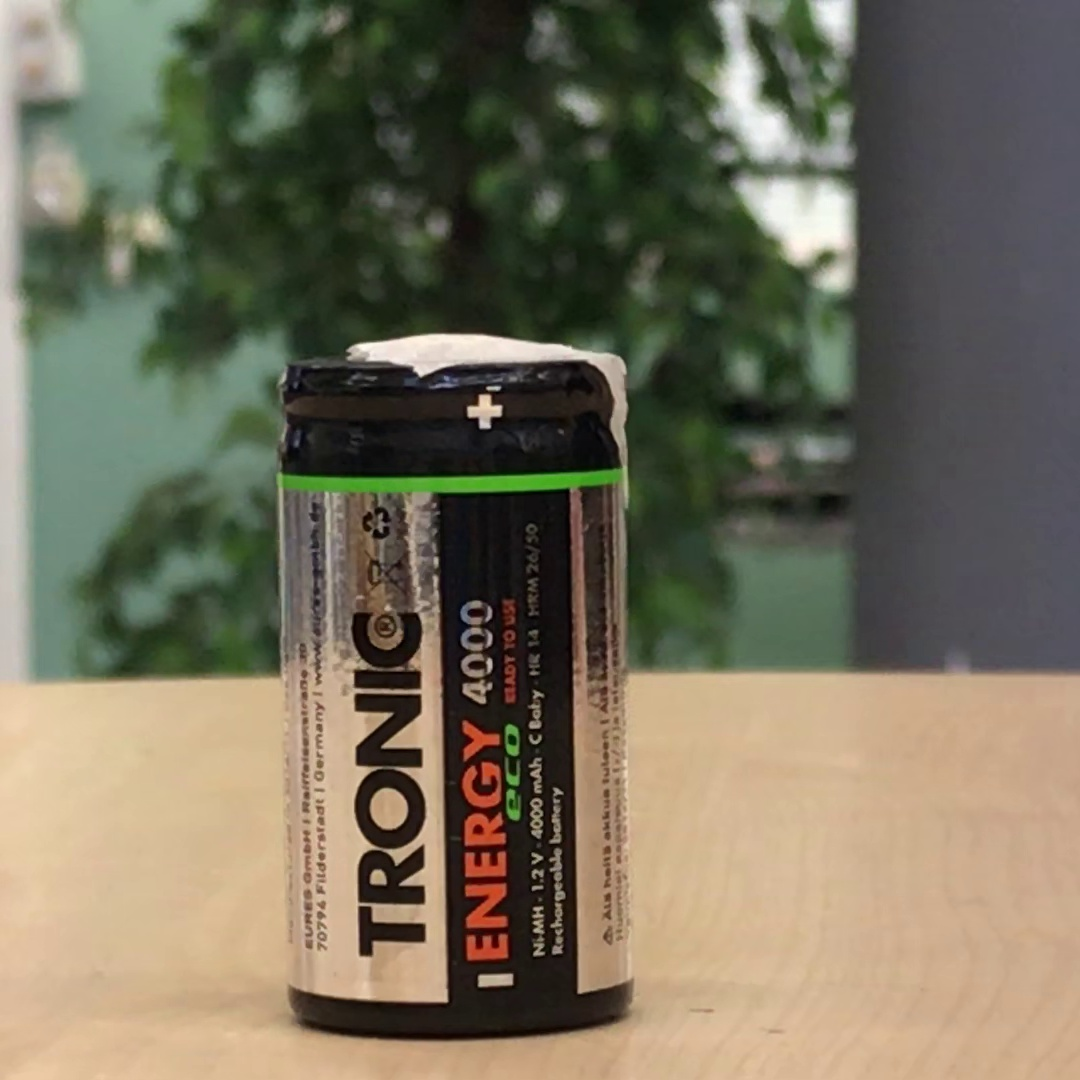keyword: (523, 898, 554, 965), (522, 846, 552, 900)
